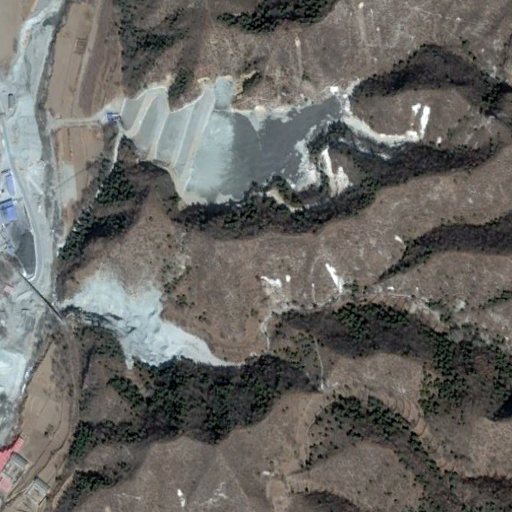tp: (111, 78, 430, 211)
